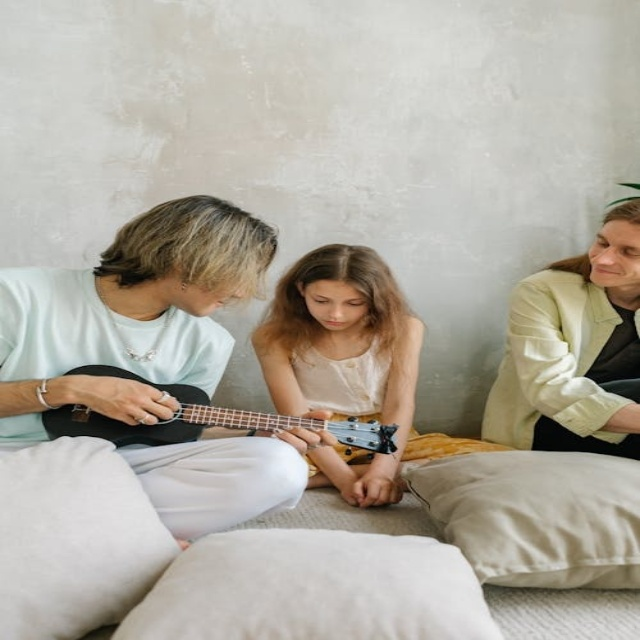Sin_gafas: (301, 289, 372, 311), (584, 232, 637, 259)
Sin_guantes: (54, 365, 183, 431), (270, 416, 340, 455), (342, 472, 405, 508)
Sin_mascara: (586, 263, 628, 285), (316, 314, 351, 331)
